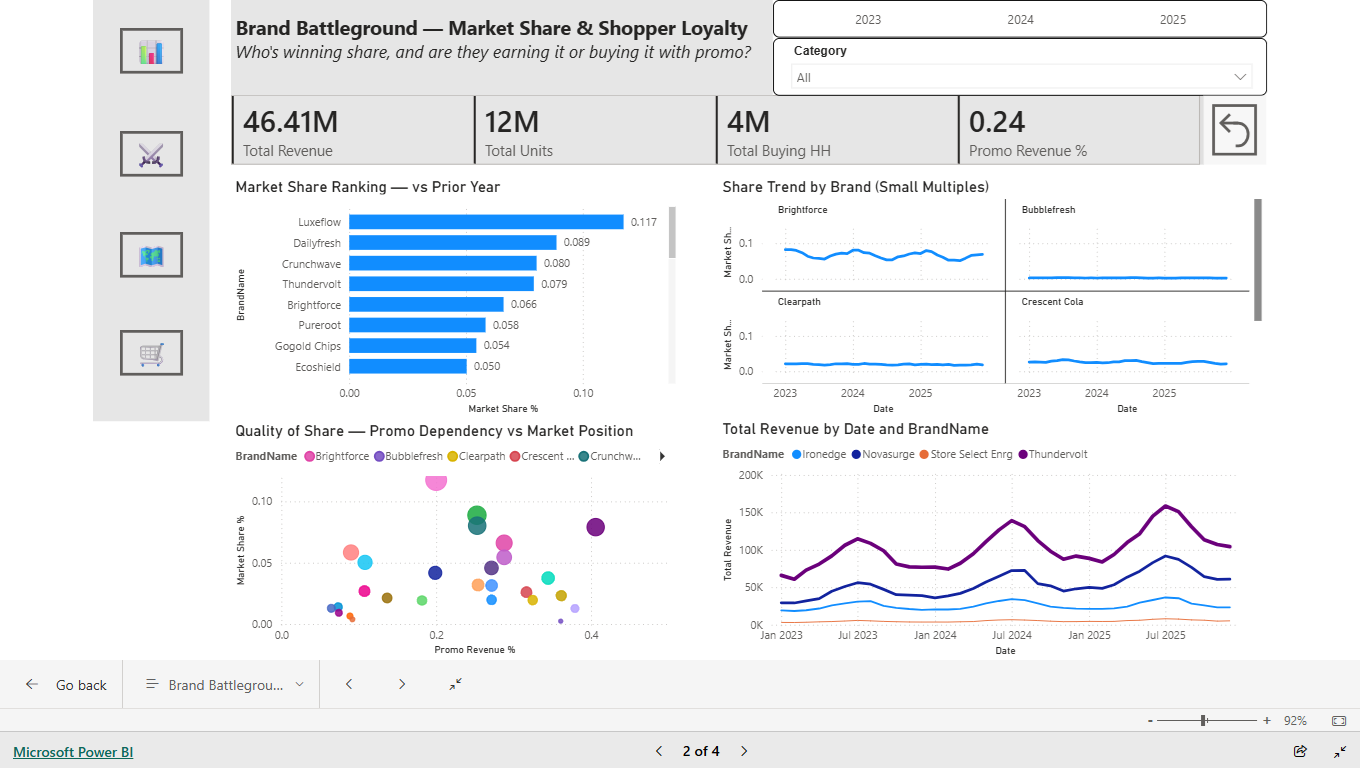

The page's visual inventory and layout, read from the dashboard file:
{"tool":"powerbi","page":{"name":"Brand Battleground","canvas":[1280,720],"ordinal":1},"visuals":[{"type":"shape","box":[0,0,127.3,459.5],"z":0},{"type":"barChart","title":"Market Share Ranking — vs Prior Year","fields":{"Category":["Dim_Brand.BrandName"],"Y":["_Measures.Market Share %"]},"box":[150.7,193.2,490.2,263.4],"z":1000},{"type":"scatterChart","title":"Quality of Share — Promo Dependency vs Market Position","fields":{"X":["_Measures.Promo Revenue %"],"Y":["_Measures.Market Share %"],"Size":["_Measures.Total Revenue"],"Series":["Dim_Brand.BrandName"]},"box":[150.7,459.5,490.2,260.5],"z":2000},{"type":"lineChart","title":"Share Trend by Brand (Small Multiples)","fields":{"Rows":["Dim_Brand.BrandName"],"Category":["Dim_Date.Date"],"Y":["_Measures.Market Share %"]},"box":[682,193.2,598.5,263.4],"z":3000},{"type":"cardVisual","fields":{"Data":["_Measures.Total Revenue","_Measures.Total Units","_Measures.Total Buying HH","_Measures.Promo Revenue %"]},"box":[150.7,103.9,1061,76.1],"z":4000},{"type":"slicer","fields":{"Values":["Dim_Date.Year"]},"box":[741.5,0,538.5,41],"z":5000},{"type":"slicer","fields":{"Values":["Dim_Segment.Dim_Category"]},"box":[741.5,41,538.5,62.9],"z":6000},{"type":"actionButton","box":[1211.2,103.9,68.8,76.1],"z":7000},{"type":"textbox","box":[150.7,0,591.2,103.9],"z":8000},{"type":"actionButton","title":"Overview","box":[29.3,30.7,68.8,49.8],"z":9000},{"type":"actionButton","box":[29.3,143.4,68.8,49.8],"z":10000},{"type":"actionButton","box":[29.3,253.2,68.8,49.8],"z":11000},{"type":"actionButton","box":[29.3,360,68.8,49.8],"z":12000},{"type":"lineChart","fields":{"Category":["Dim_Date.Date"],"Y":["_Measures.Total Revenue"],"Series":["Dim_Brand.BrandName"]},"box":[682,456.6,585.4,263.4],"z":13000}]}

Visuals, with their boxes on the page's 1280x720 design canvas (x1, y1, x2, y2). These are canvas units, not pixel positions in the 1360x768 screenshot, which may show the page scaled, cropped or inside an application window:
shape: 0,0,127,460
"Market Share Ranking — vs Prior Year" barChart: 151,193,641,457
"Quality of Share — Promo Dependency vs Market Position" scatterChart: 151,460,641,720
"Share Trend by Brand (Small Multiples)" lineChart: 682,193,1280,457
cardVisual - _Measures.Total Revenue x _Measures.Total Units: 151,104,1212,180
slicer - Dim_Date.Year: 742,0,1280,41
slicer - Dim_Segment.Dim_Category: 742,41,1280,104
actionButton: 1211,104,1280,180
textbox: 151,0,742,104
"Overview" actionButton: 29,31,98,80
actionButton: 29,143,98,193
actionButton: 29,253,98,303
actionButton: 29,360,98,410
lineChart - Dim_Date.Date x _Measures.Total Revenue: 682,457,1267,720
